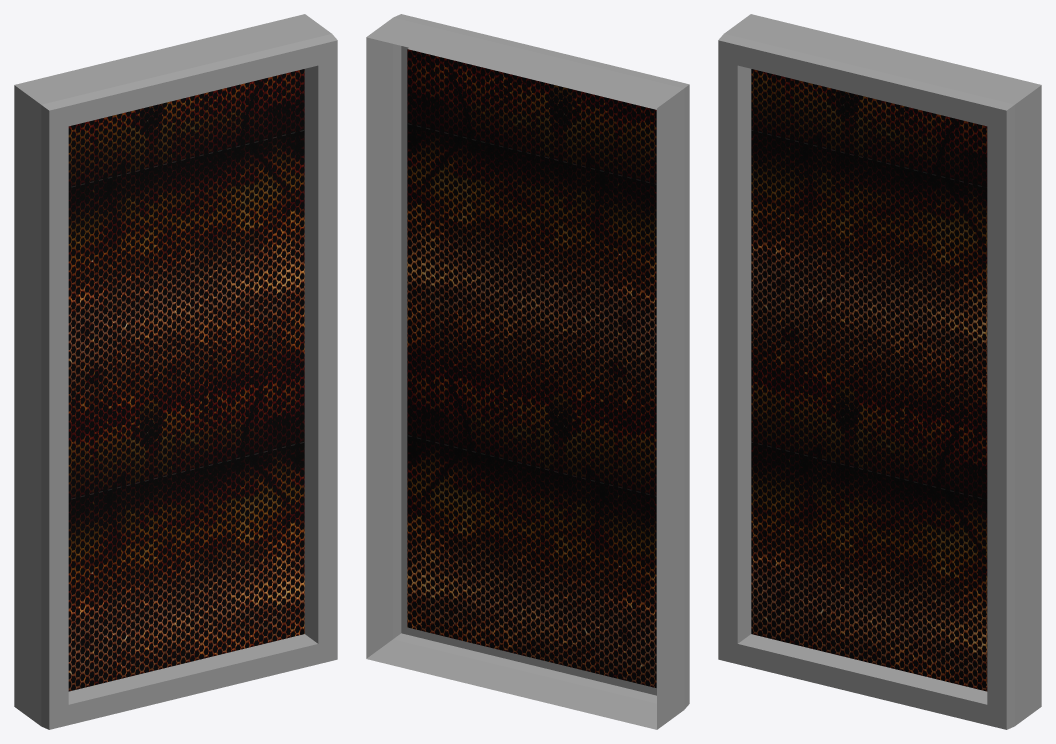
Rendered from block_wall_2_geo.fbx.
3 renders of one model, left to right at view 1: azimuth 30°, elevation 25°; view 2: azimuth 150°, elevation 25°; view 3: azimuth 330°, elevation 25°, orthographic.
Parts seen in each view (by area): view 1: block_wall_2_geo; view 2: block_wall_2_geo; view 3: block_wall_2_geo.
Part boxes in pixels (x1,y1,x2,y2): block_wall_2_geo: [14, 14, 337, 729]; block_wall_2_geo: [366, 14, 689, 729]; block_wall_2_geo: [718, 14, 1041, 729].
Bounding box in the file's own units: 341 × 696 × 68.69.
